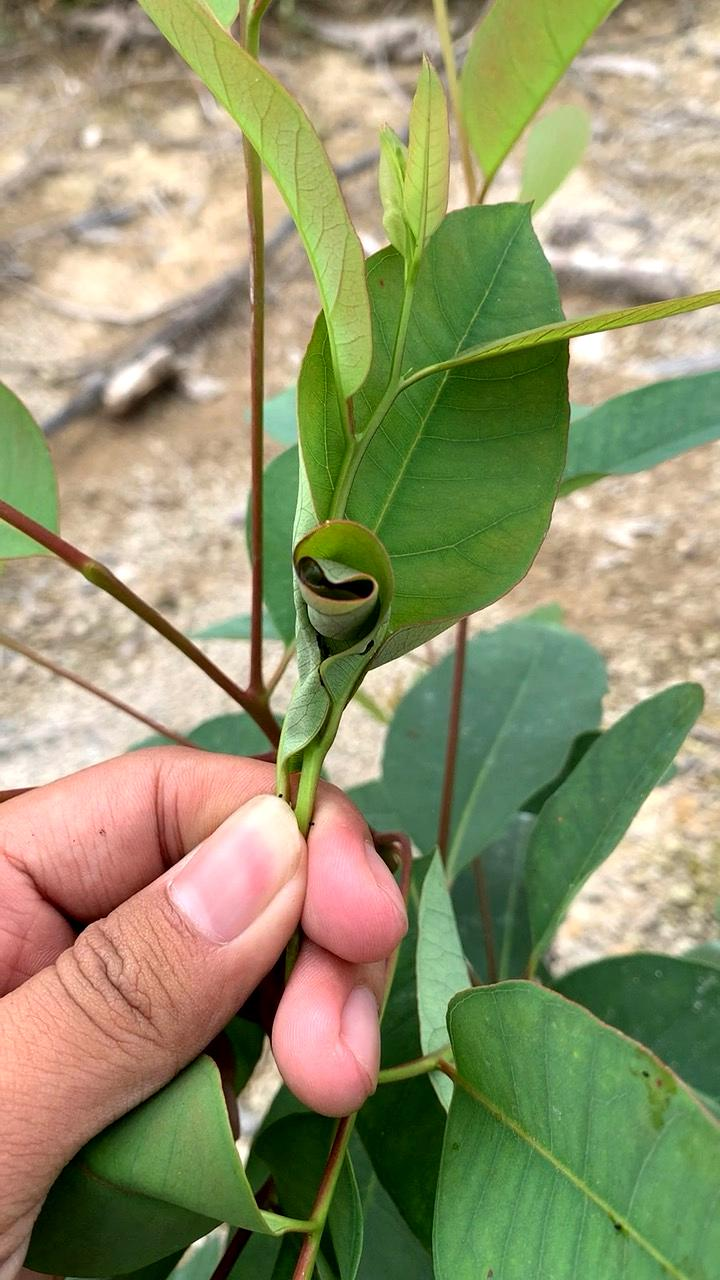Leaf Roller - Leaf: (209, 493, 483, 738)
